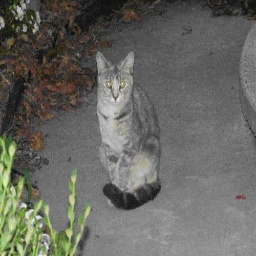cat: (91, 48, 165, 214)
